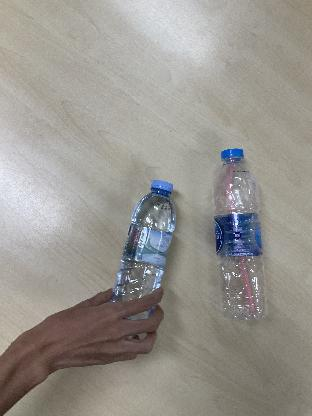Plastic Bottle: (210, 148, 272, 322), (115, 178, 175, 344)
